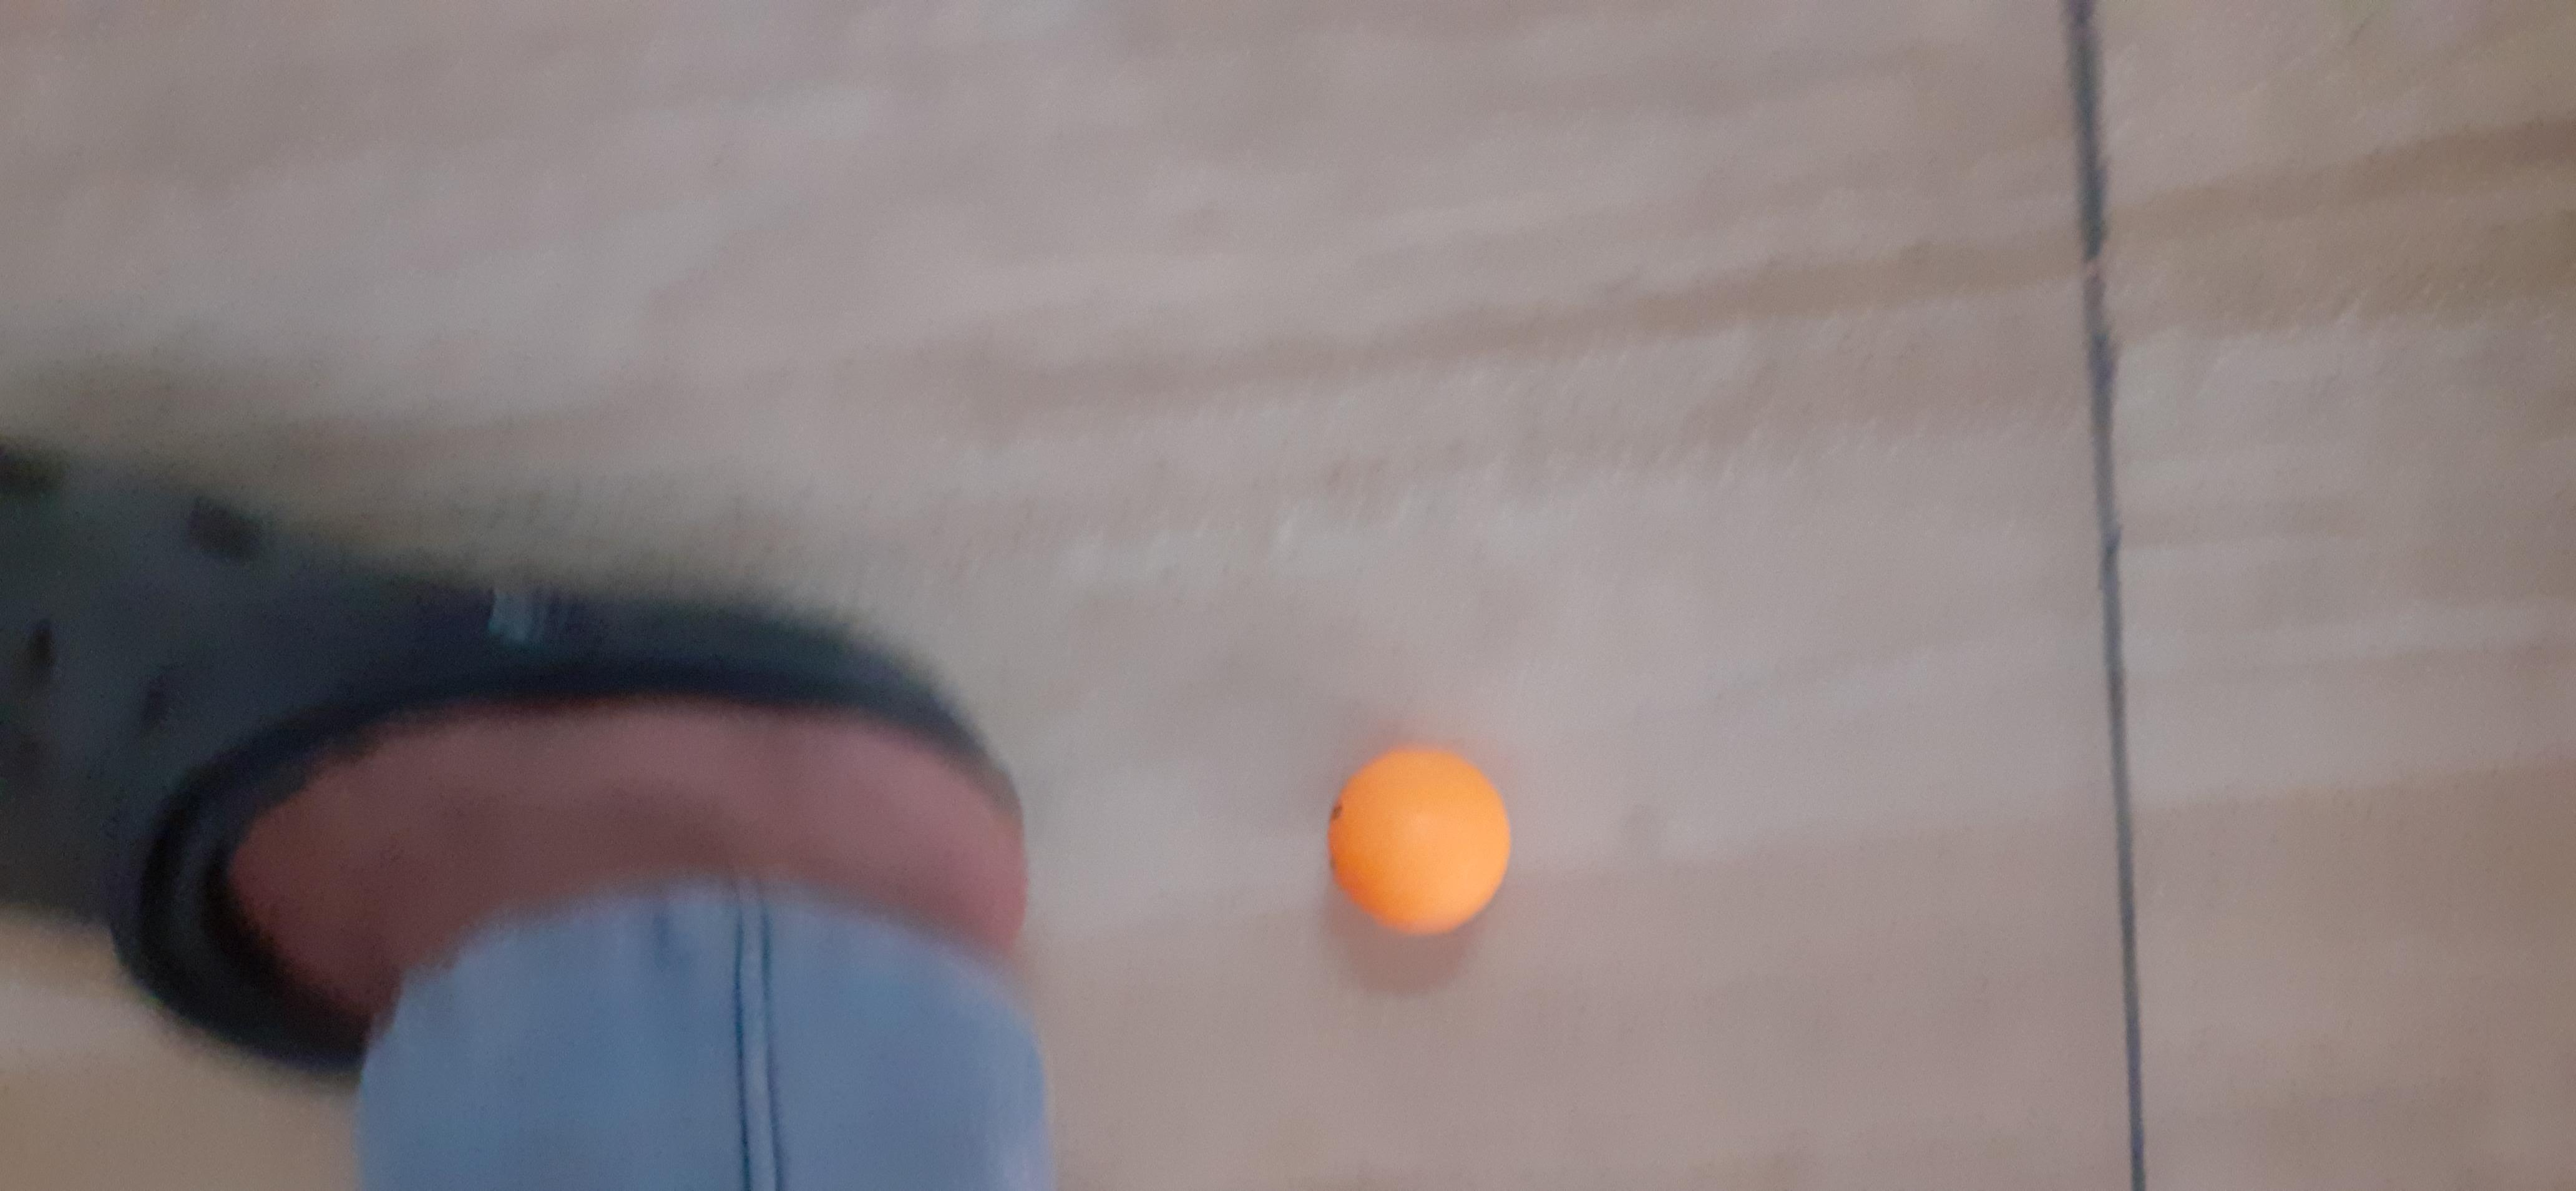orange: (1329, 746, 1510, 927)
